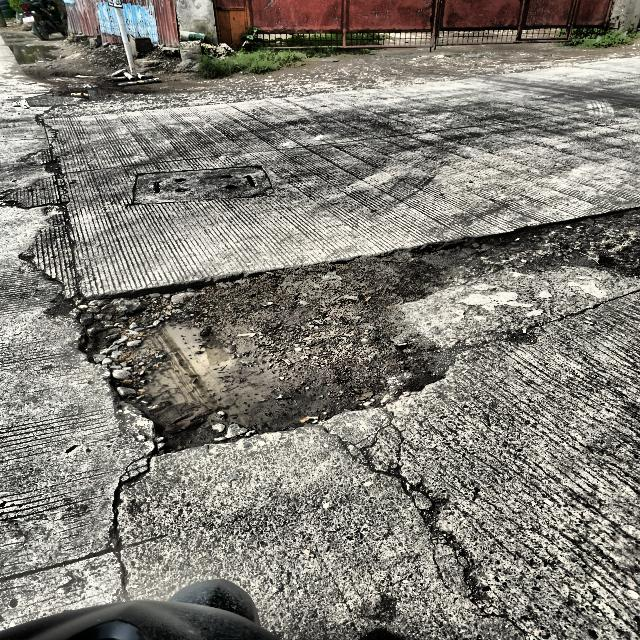pothole: (132, 260, 453, 449)
